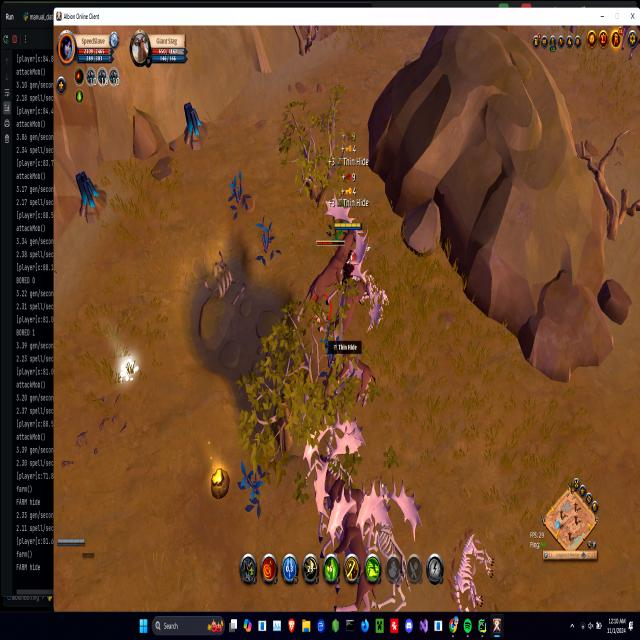mob: (309, 437, 378, 611), (321, 273, 371, 346), (341, 349, 378, 408)
ore: (296, 195, 370, 333)
player: (74, 169, 107, 223), (181, 100, 204, 150)
red: (338, 219, 363, 288), (55, 533, 86, 550)
stone: (116, 350, 140, 384)
